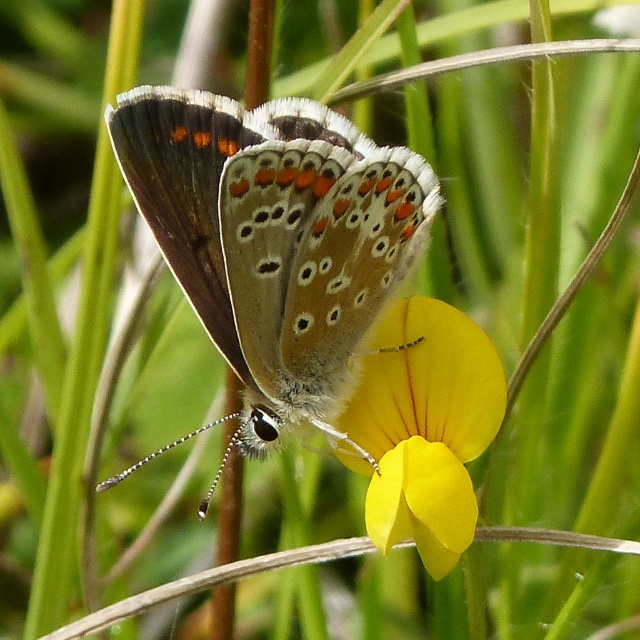Butterfly: (95, 80, 443, 523)
